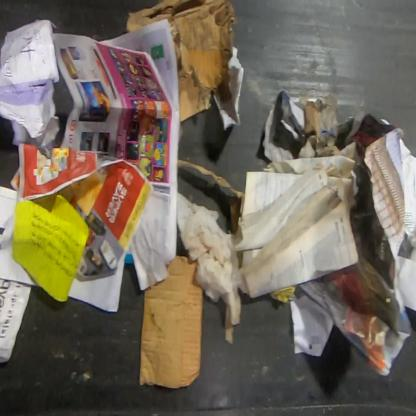cardboard: (123, 0, 238, 125), (138, 256, 204, 390), (178, 160, 245, 217)
